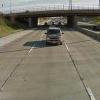Bridge: (5, 2, 95, 26)
